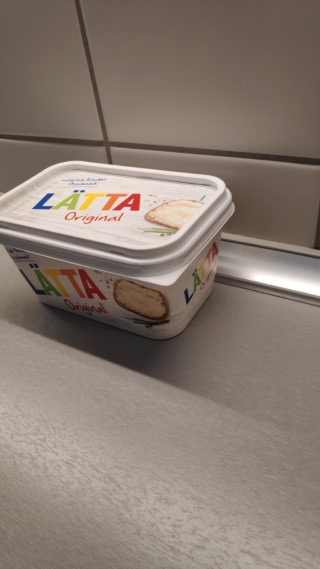laetta: (1, 159, 237, 340)
